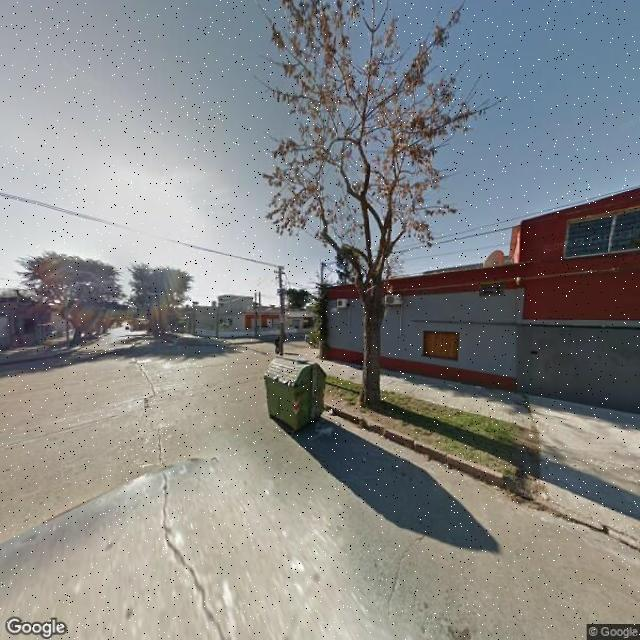garbage container: (257, 351, 341, 438)
